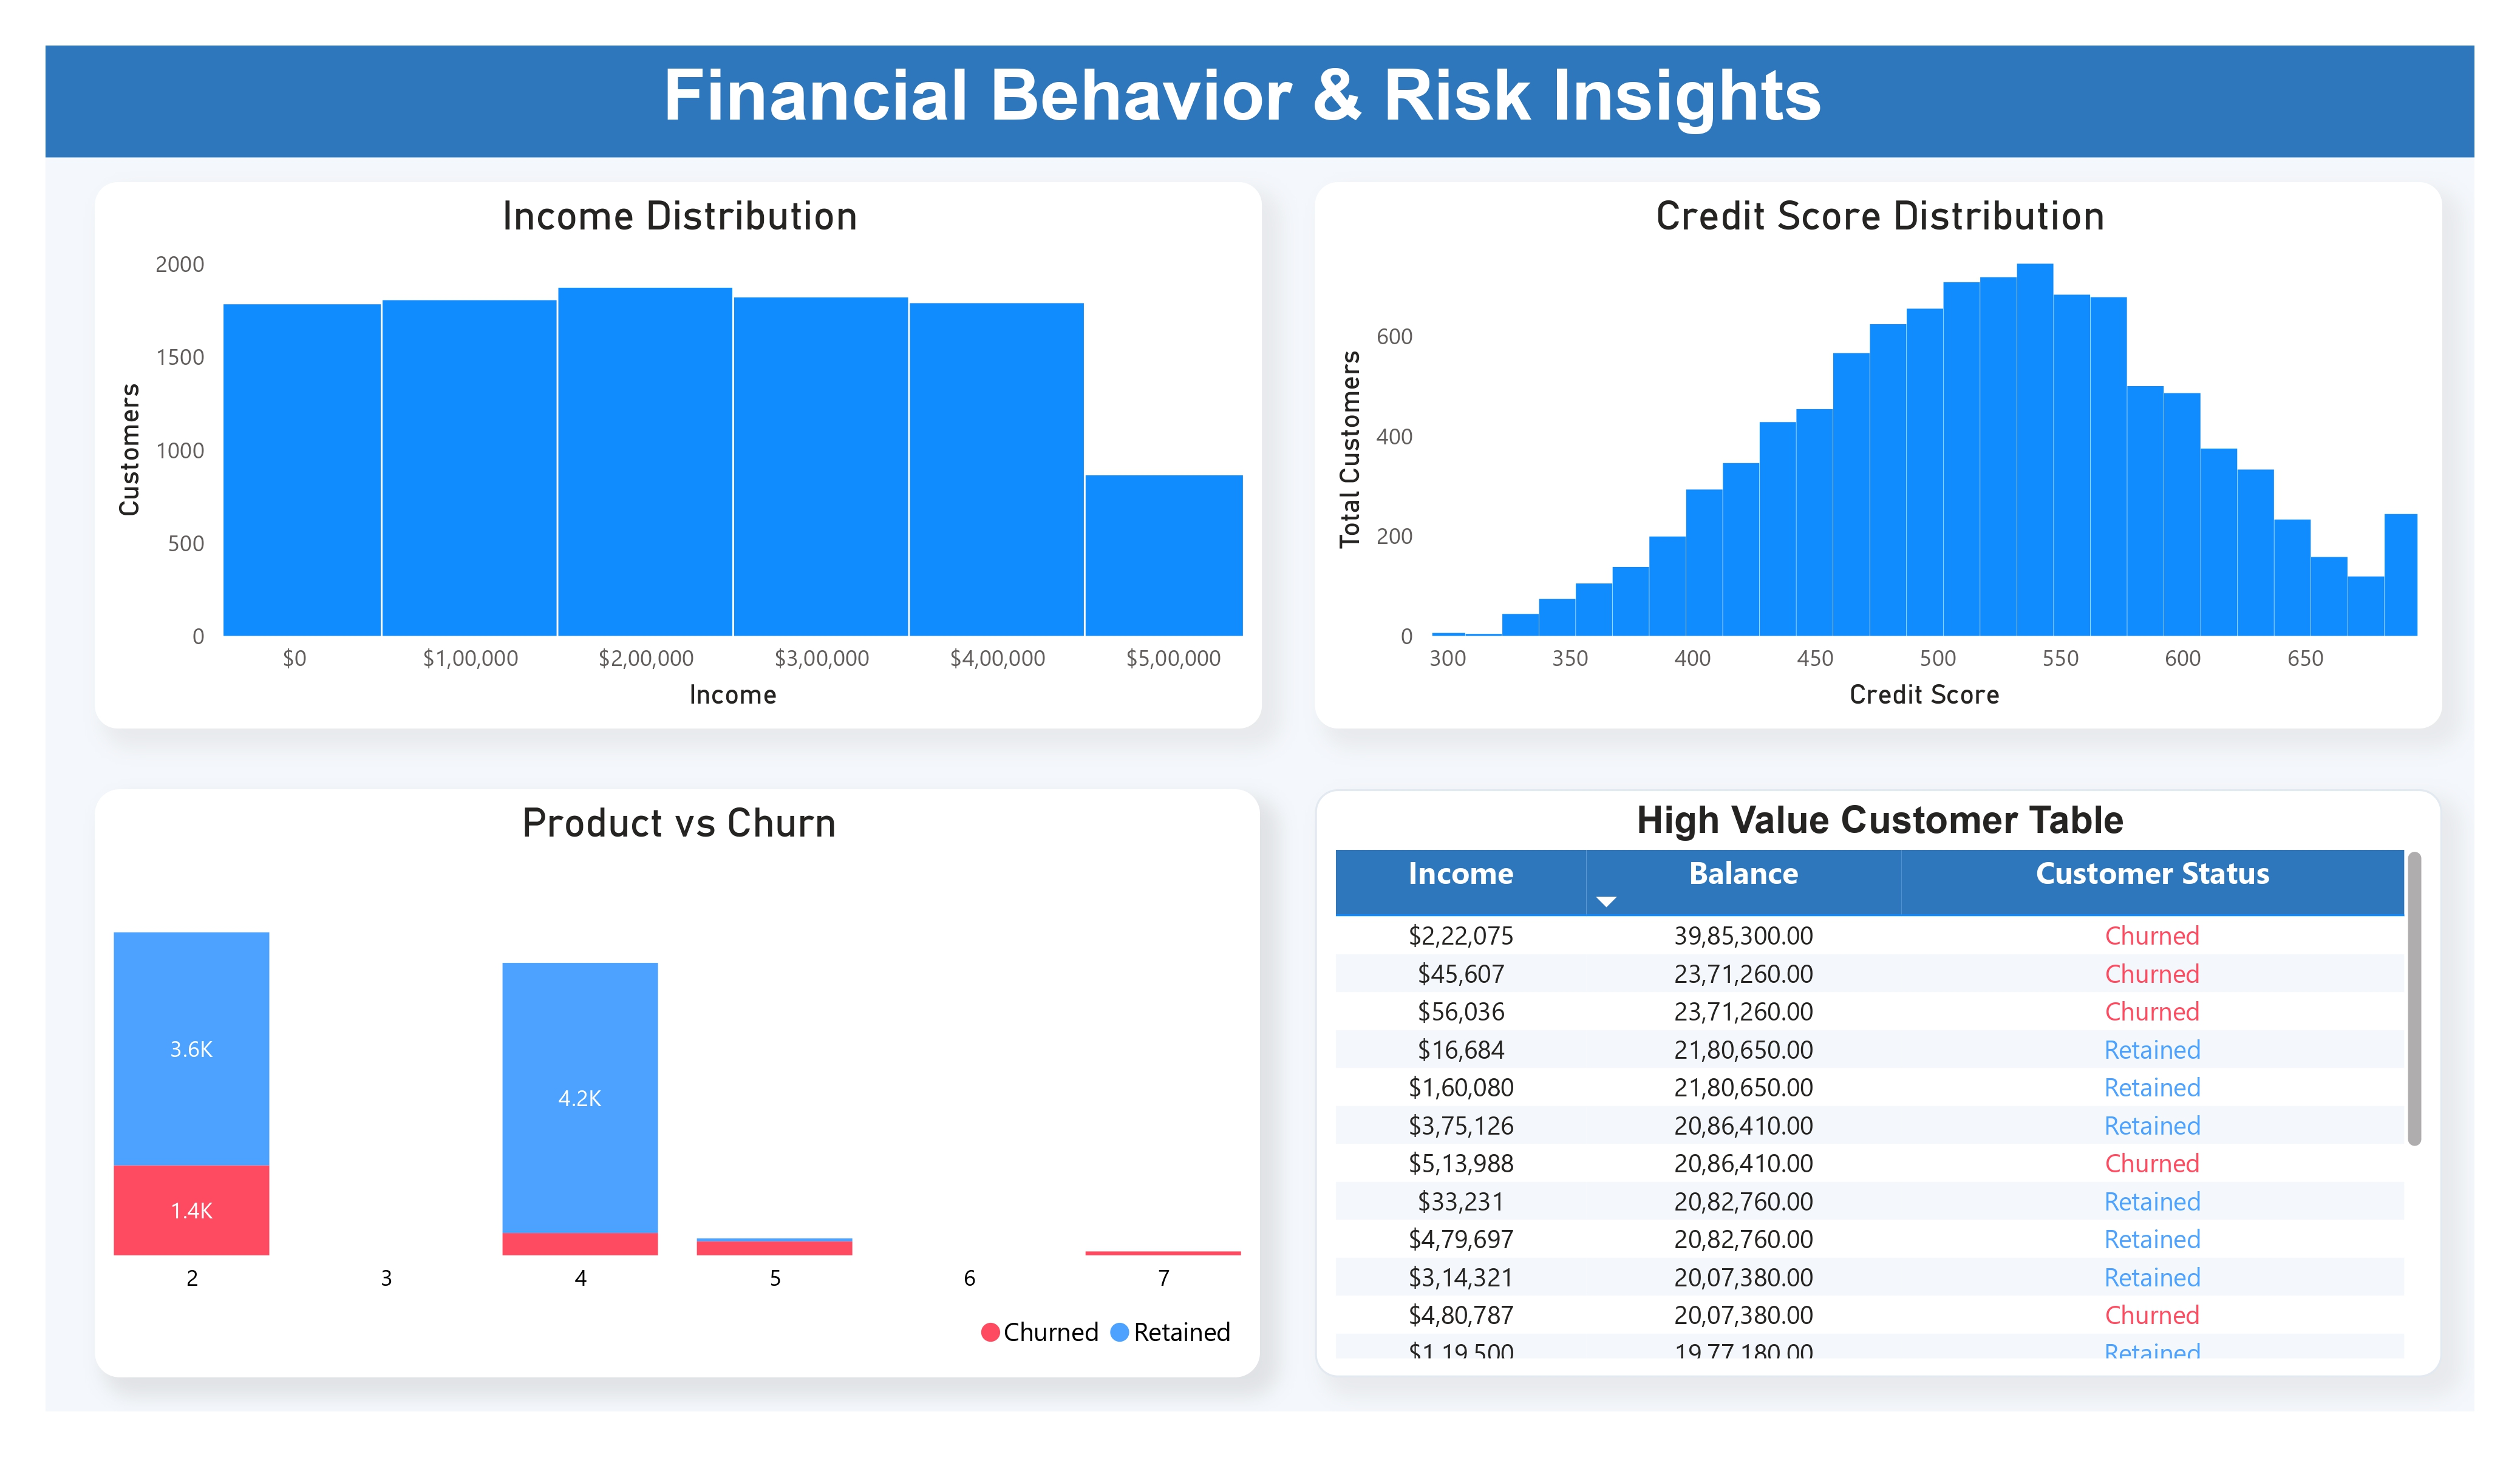

This screenshot's page, from the dashboard's own definition file:
{"tool":"powerbi","page":{"name":"FINANCIAL & RISK ANALYSIS","canvas":[1280,720],"ordinal":2},"visuals":[{"type":"textbox","box":[0,0,1280.2,59.3],"z":0},{"type":"clusteredColumnChart","title":"Income Distribution","fields":{"Category":["amex_project customers.Estimated_Yearly_Income (bins)"],"Y":["amex_project customers.Total Customers"]},"box":[25.6,72.1,615.1,288.4],"z":1000},{"type":"clusteredColumnChart","title":"Credit Score Distribution","fields":{"Category":["amex_project customers.Credit_Score (bins)"],"Y":["amex_project customers.Total Customers"]},"box":[668.6,72.1,594.2,288.4],"z":2000},{"type":"columnChart","title":"Product vs Churn","fields":{"Category":["amex_project customers.Num_of_products"],"Series":["amex_project customers.Customer_Status"],"Y":["amex_project customers.Total Customers"]},"box":[25.6,391.9,614,310.5],"z":3000},{"type":"tableEx","title":"High Value Customer Table","fields":{"Values":["amex_project customers.Estimated_Yearly_Income","amex_project customers.Current_Account_Balance","amex_project customers.Customer_Status"]},"box":[668.6,391.9,594.2,310.5],"z":4000}]}

Visuals, with their boxes on the page's 1280x720 design canvas (x1, y1, x2, y2). These are canvas units, not pixel positions in the 2520x1457 screenshot, which may show the page scaled, cropped or inside an application window:
textbox: box(0, 0, 1280, 59)
"Income Distribution" clusteredColumnChart: box(26, 72, 641, 360)
"Credit Score Distribution" clusteredColumnChart: box(669, 72, 1263, 360)
"Product vs Churn" columnChart: box(26, 392, 640, 702)
"High Value Customer Table" tableEx: box(669, 392, 1263, 702)
